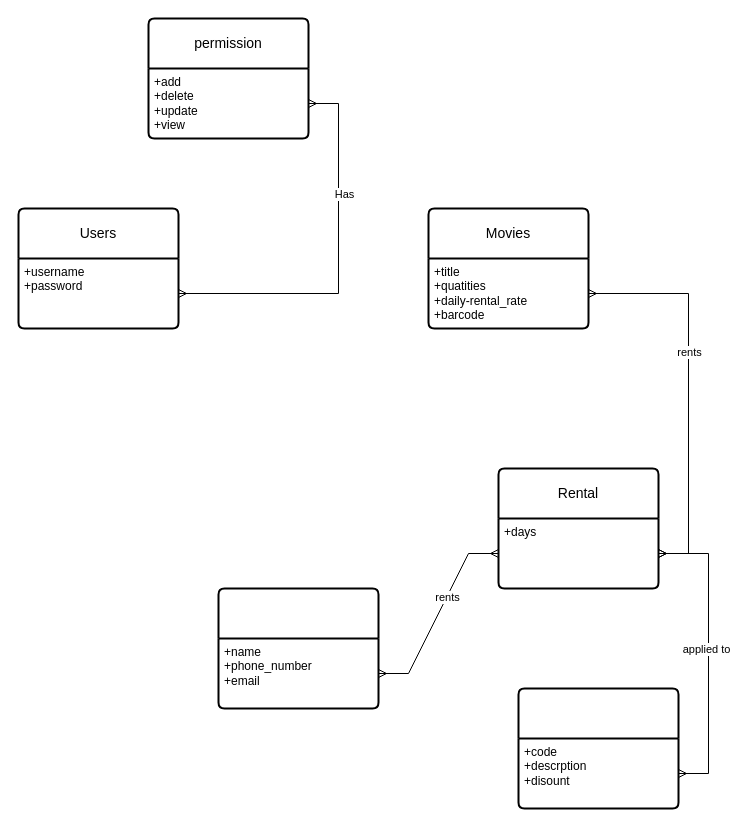
The diagram is 747 pixels wide and 826 high, and some of its shapes have lost their labels. Here are the shapes that lost their labels. From the top down, the box of each, then its label:
(217, 587, 379, 709): Customers
(517, 687, 679, 809): Coupon
